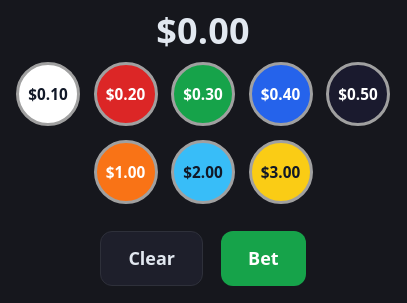
Scenario: ChipPicker › Clear button resets total to $0.00
The image size is (407, 303).
What coordinates should you click on to do the following:
click the button with test id "chip-0.50"
I would click on:
 (358, 94)
Its box is [326,62,390,126].
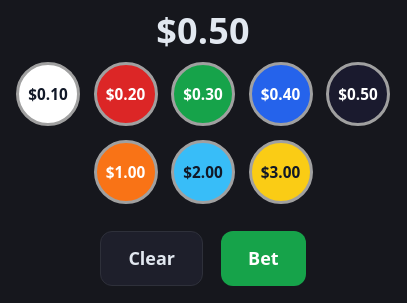
What coordinates should you click on to do the following:
click the button with test id "chip-0.50"
I would click on:
 (358, 94)
Its box is [326,62,390,126].
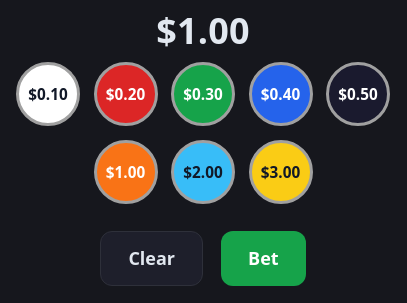
Now the text with test id "chip-total" reads "$1.00", box [156,6,250,55]
What coordinates should you click on to do the following:
click the button with test id "chip-clear"
I would click on:
 (152, 258)
Its box is [100,231,203,286].
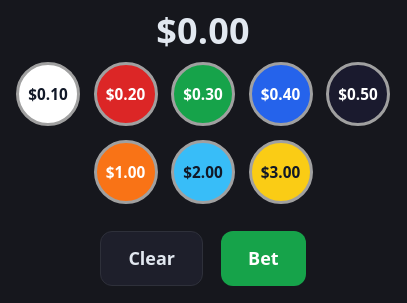
Now the text with test id "chip-total" reads "$0.00", box [156,6,250,55]
